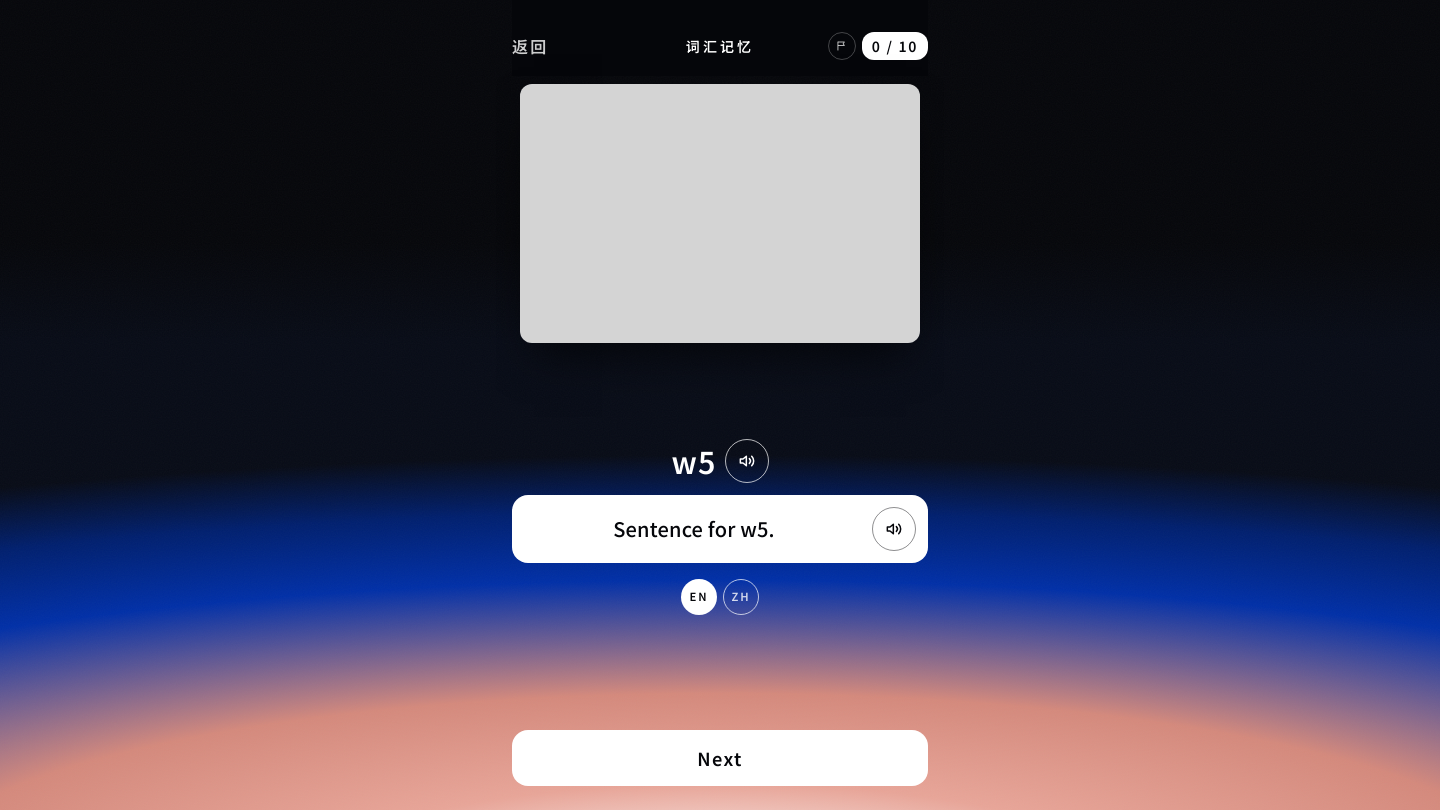
PracticePage › timeout enqueues Forgot and waits for Next before advancing
Expected: the heading "w5" is shown, [671,443,717,479]
Expected: the button "Aha!" is not shown
Click the button "Next" at (720, 758), box [512,730,928,786]
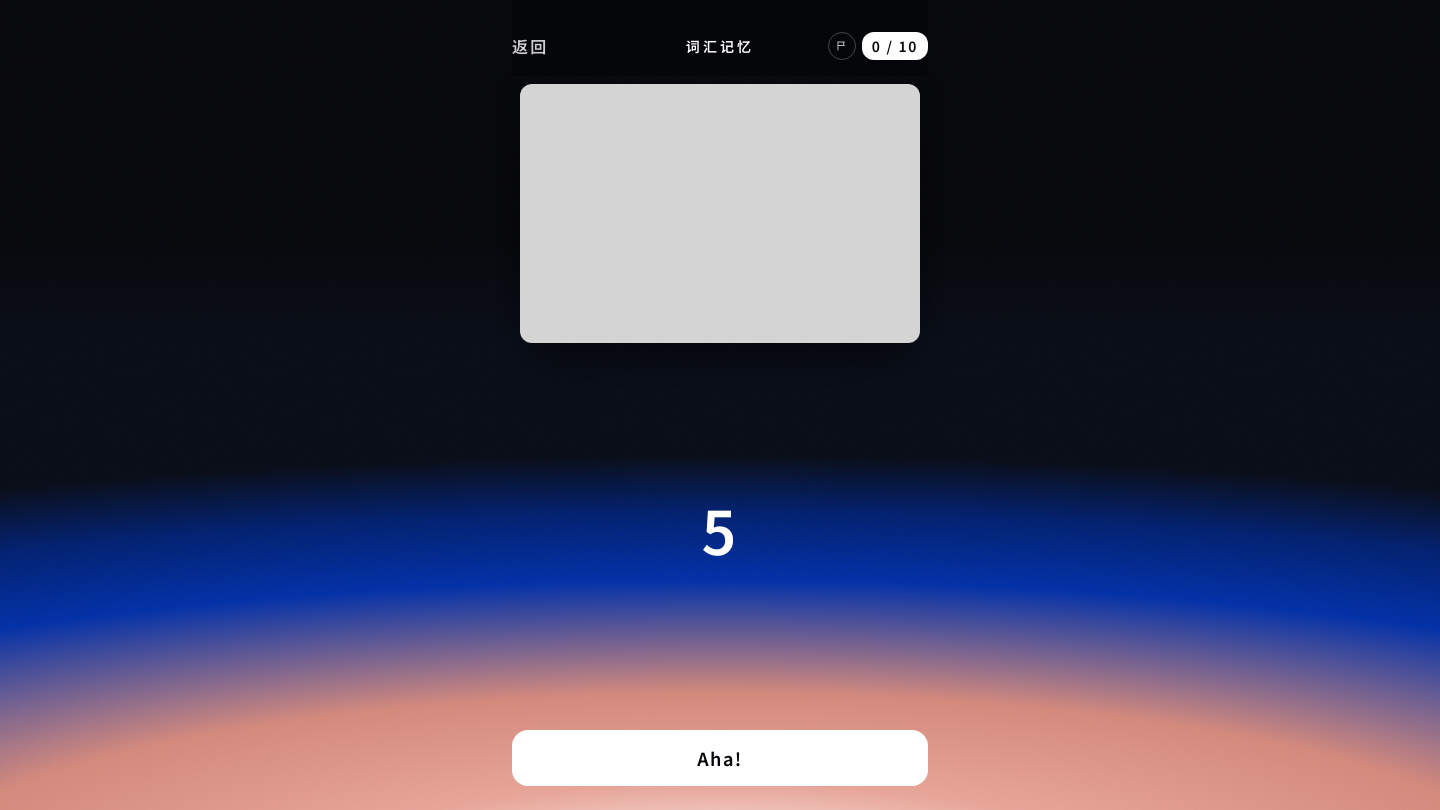
Expected: the button "Aha!" is shown, [512,730,928,786]
